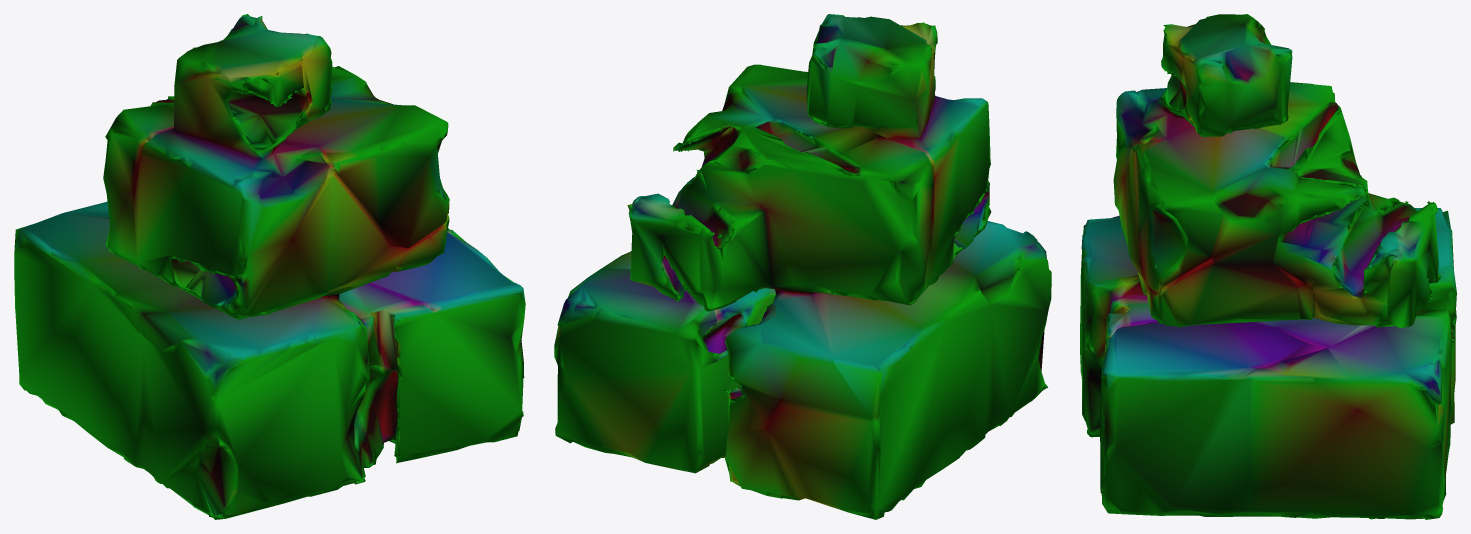
The model's file is SM_Ruin_C_L2.glb.
3 renders of one model, left to right at view 1: azimuth 30°, elevation 25°; view 2: azimuth 150°, elevation 25°; view 3: azimuth 270°, elevation 25°, orthographic. The views are drawn at different scales.
Parts seen in each view (by area): view 1: SM_Ruin_C; view 2: SM_Ruin_C; view 3: SM_Ruin_C.
Part boxes in pixels (x1,y1,x2,y2): SM_Ruin_C: [14, 14, 525, 519]; SM_Ruin_C: [554, 14, 1051, 519]; SM_Ruin_C: [1080, 14, 1456, 519].
Bounding box in the file's own units: 1.89 × 2.09 × 1.85.
